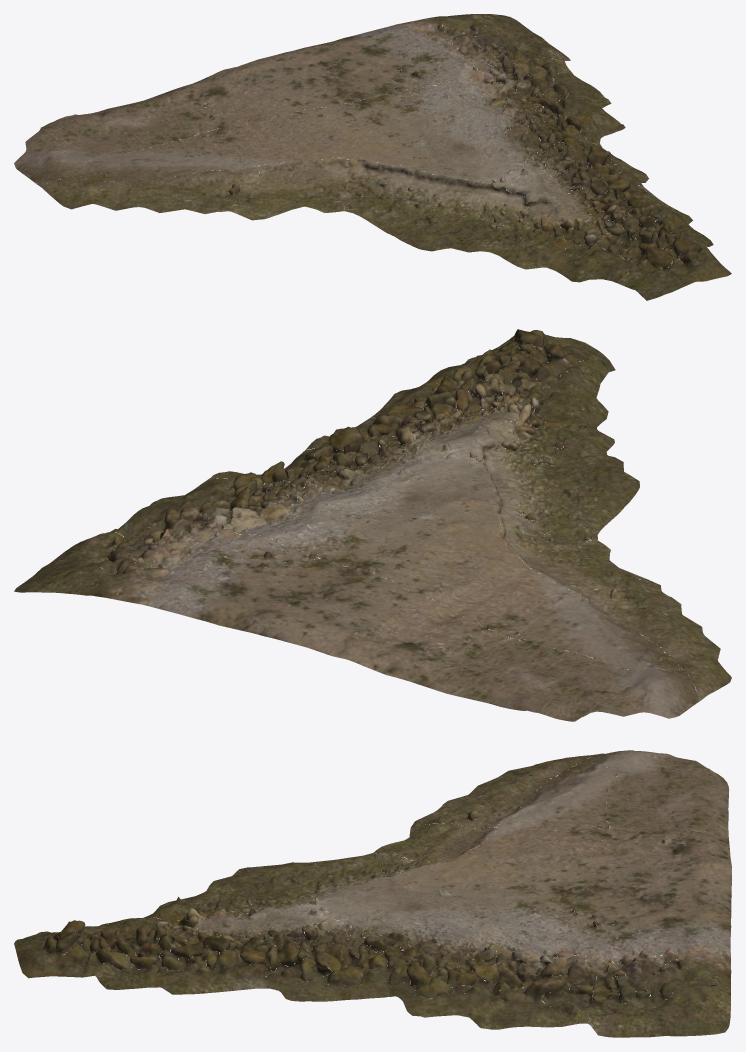
File: coast_rocks_02_lite.glb
3 renders of one model, top to bottom at view 1: azimuth 30°, elevation 25°; view 2: azimuth 150°, elevation 25°; view 3: azimuth 270°, elevation 25°, orthographic. The views are drawn at different scales.
Visible parts, largest first — view 1: coast_rocks_02; view 2: coast_rocks_02; view 3: coast_rocks_02.
Part boxes in pixels (<box>): coast_rocks_02: <box>14,14,731,300</box>; coast_rocks_02: <box>14,329,731,721</box>; coast_rocks_02: <box>14,750,731,1037</box>.
Bounding box in the file's own units: 45.97 × 3.19 × 49.47.
Materials: 1 (1 with a texture image).
